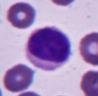L: (24, 26, 72, 72)
